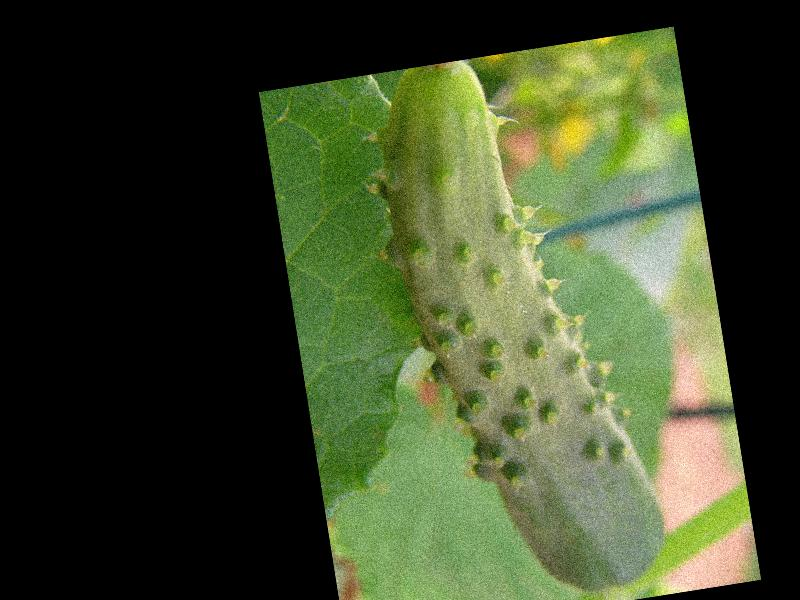Cucumber: (359, 43, 672, 600)
